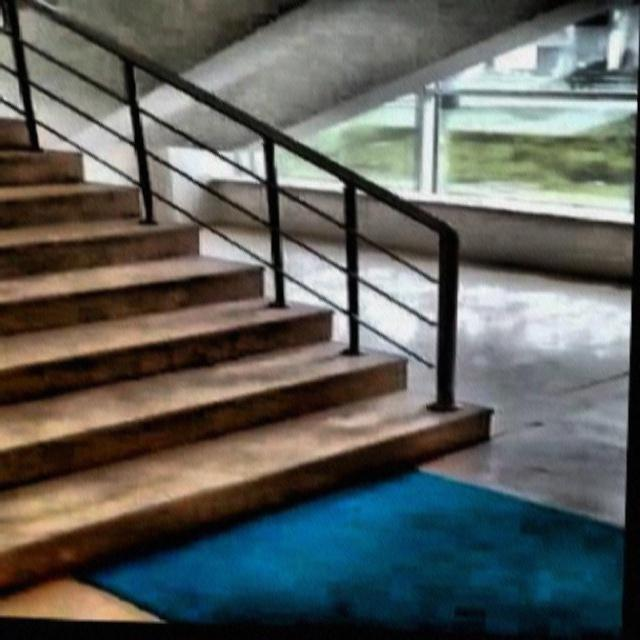stair: (2, 57, 524, 637)
